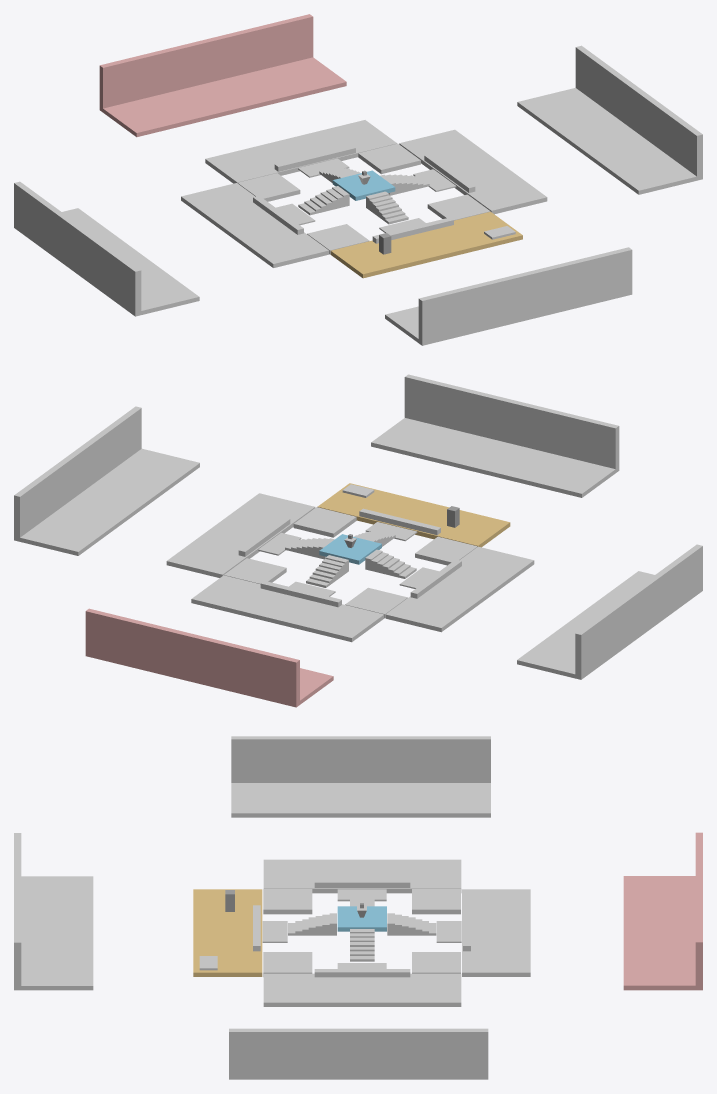
The picture shows the model from 3 angles, top to bottom: view 1: azimuth 30°, elevation 25°; view 2: azimuth 150°, elevation 25°; view 3: azimuth 270°, elevation 25°; orthographic projection. The views are drawn at different scales.
Parts seen in each view (by area): view 1: pCube19, pCube20, pCube22, pCube21, pCube15, pCube16, pCube17, pCube18, pCube3, pCube4, pCube9, pCube2 (+8 smaller); view 2: pCube22, pCube20, pCube19, pCube21, pCube18, pCube15, pCube17, pCube16, pCube2, pCube1, pCube9, pCube3 (+8 smaller); view 3: pCube21, pCube20, pCube19, pCube22, pCube17, pCube18, pCube15, pCube16, pCube1, pCube4, pCube9, pCube2 (+8 smaller).
Boxes of the visible parts, x1=… form: pCube19: x1=99, y1=14, x2=346, y2=137; pCube20: x1=517, y1=45, x2=702, y2=194; pCube22: x1=385, y1=247, x2=632, y2=345; pCube21: x1=14, y1=181, x2=199, y2=316; pCube15: x1=181, y1=183, x2=329, y2=267; pCube16: x1=330, y1=211, x2=522, y2=278; pCube17: x1=399, y1=129, x2=547, y2=214; pCube18: x1=205, y1=120, x2=396, y2=183; pCube3: x1=358, y1=143, x2=420, y2=174; pCube4: x1=237, y1=173, x2=300, y2=201; pCube9: x1=332, y1=170, x2=395, y2=200; pCube2: x1=427, y1=194, x2=490, y2=220; pCube22: x1=371, y1=374, x2=619, y2=497; pCube20: x1=14, y1=406, x2=199, y2=555; pCube19: x1=85, y1=608, x2=333, y2=707; pCube21: x1=517, y1=544, x2=702, y2=679; pCube18: x1=191, y1=575, x2=384, y2=642; pCube15: x1=385, y1=546, x2=534, y2=632; pCube17: x1=166, y1=493, x2=315, y2=577; pCube16: x1=317, y1=483, x2=510, y2=547; pCube2: x1=293, y1=507, x2=356, y2=537; pCube1: x1=415, y1=536, x2=477, y2=565; pCube9: x1=319, y1=534, x2=381, y2=564; pCube3: x1=224, y1=558, x2=286, y2=584; pCube21: x1=231, y1=736, x2=490, y2=817; pCube20: x1=229, y1=1028, x2=488, y2=1079; pCube19: x1=623, y1=832, x2=702, y2=990; pCube22: x1=14, y1=833, x2=93, y2=990; pCube17: x1=263, y1=973, x2=461, y2=1006; pCube18: x1=462, y1=889, x2=530, y2=976; pCube15: x1=263, y1=859, x2=461, y2=893; pCube16: x1=193, y1=889, x2=262, y2=976; pCube1: x1=263, y1=889, x2=312, y2=914; pCube4: x1=412, y1=889, x2=460, y2=914; pCube9: x1=337, y1=906, x2=386, y2=931; pCube2: x1=263, y1=952, x2=312, y2=976.
Bounding box in the file's own units: 143 × 10.78 × 140.
